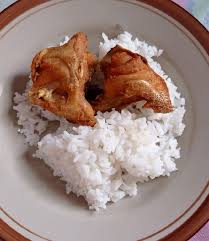Ayam goreng: (27, 25, 99, 129), (96, 44, 169, 118)
Nasi putih: (37, 106, 195, 213)
